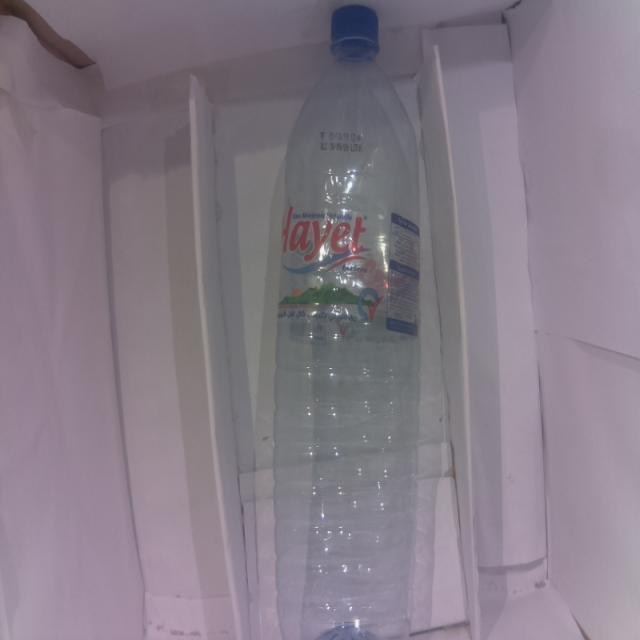blue: (266, 41, 416, 640)
